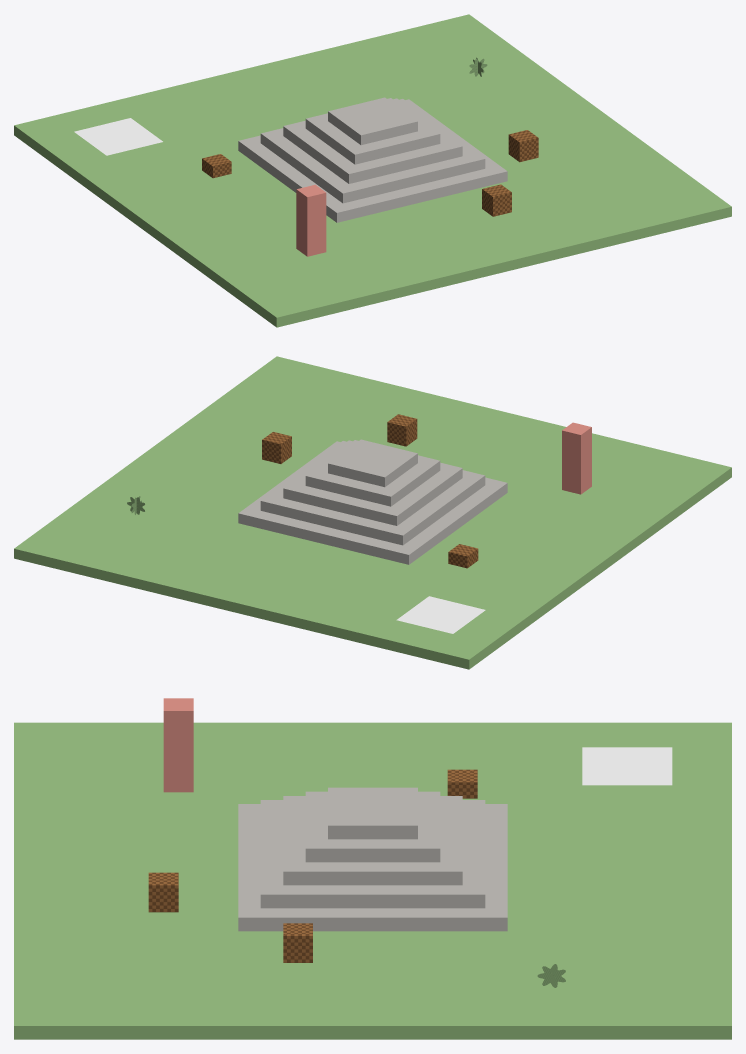
Rendered from map.glb.
3 renders of one model, top to bottom at view 1: azimuth 30°, elevation 25°; view 2: azimuth 150°, elevation 25°; view 3: azimuth 270°, elevation 25°, orthographic. The views are drawn at different scales.
Parts seen in each view (by area): view 1: Ground, Step1, Step2, Step3, Step4, Step5, Pillar, Pond, Crate1, Crate3, Crate2; view 2: Ground, Step1, Step2, Step3, Step4, Step5, Pillar, Pond, Crate3, Crate1, Crate2; view 3: Ground, Step1, Step2, Step3, Step4, Step5, Pond, Pillar, Crate3, Crate1, Crate2.
Part boxes in pixels (x1,y1,x2,y2): Ground: [14, 14, 731, 327]; Step1: [238, 99, 507, 222]; Step2: [260, 99, 485, 203]; Step3: [283, 98, 462, 183]; Step4: [305, 98, 440, 164]; Step5: [328, 97, 417, 145]; Pillar: [296, 184, 326, 256]; Pond: [74, 118, 162, 155]; Crate1: [508, 130, 538, 162]; Crate3: [482, 184, 511, 216]; Crate2: [202, 154, 231, 178]; Ground: [14, 356, 731, 669]; Step1: [238, 441, 507, 564]; Step2: [260, 441, 485, 545]; Step3: [283, 440, 462, 525]; Step4: [305, 440, 440, 506]; Step5: [328, 439, 417, 487]; Pillar: [562, 422, 591, 494]; Pond: [396, 596, 485, 633]; Crate3: [387, 414, 417, 446]; Crate1: [262, 432, 291, 463]; Crate2: [448, 544, 478, 568]; Ground: [14, 722, 731, 1039]; Step1: [238, 804, 507, 931]; Step2: [260, 800, 485, 908]; Step3: [283, 796, 462, 885]; Step4: [305, 791, 440, 862]; Step5: [328, 787, 417, 839]; Pond: [582, 747, 672, 785]; Pillar: [163, 698, 193, 792]; Crate3: [148, 872, 178, 912]; Crate1: [283, 923, 312, 962]; Crate2: [447, 769, 477, 798].
Bounding box in the file's own units: 48 × 7 × 48.
6 materials, 2 textured.
